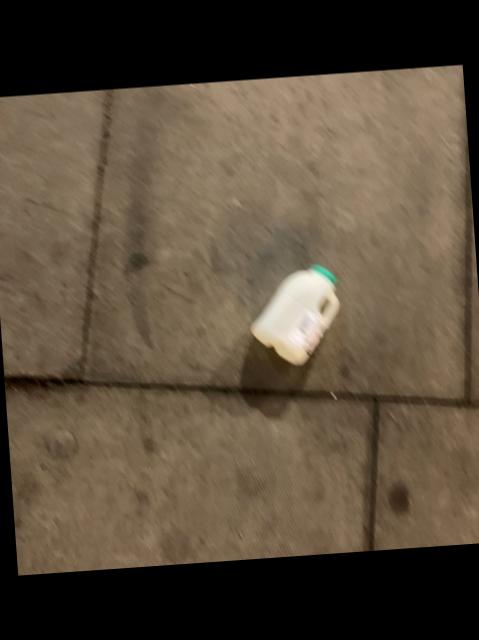plastic: (250, 266, 339, 366)
